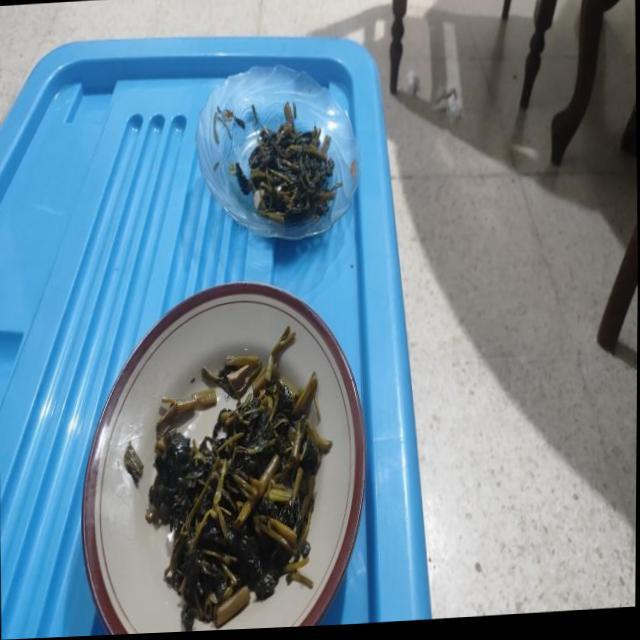tumis_kangkung: (146, 352, 332, 630), (236, 116, 342, 222)
